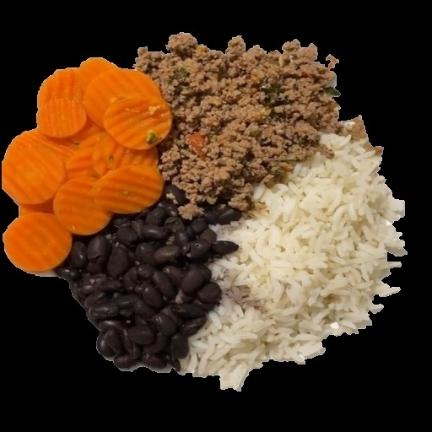beans: (51, 186, 242, 367)
carrot: (0, 56, 174, 271)
meat: (136, 35, 342, 210)
rice: (184, 122, 407, 389)
